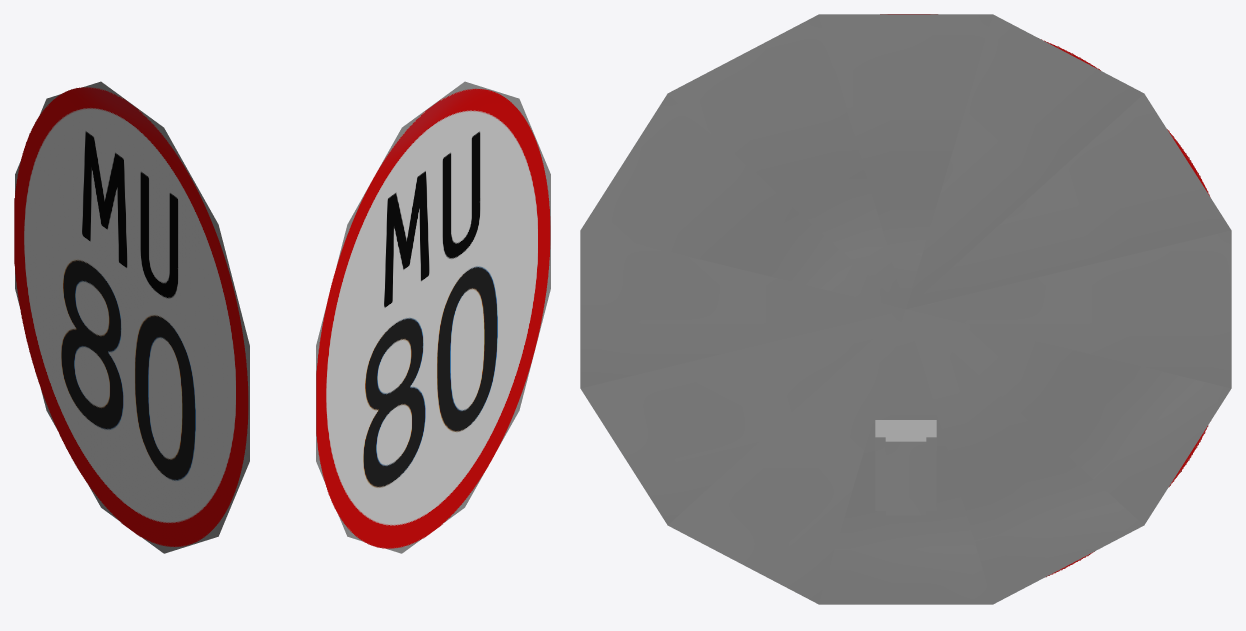
Rendered from speed_80_mu_large.png.obj.
3 views of the same model, side by side, from view 1: azimuth 30°, elevation 25°; view 2: azimuth 150°, elevation 25°; view 3: azimuth 270°, elevation 25° (orthographic). The views are drawn at different scales.
Parts seen in each view (by area): view 1: cube, circle; view 2: cube, circle; view 3: circle, cube.
Boxes of the visible parts, left/top/right/bottom form: cube: left=14, top=87, right=248, bottom=547; circle: left=15, top=81, right=249, bottom=553; cube: left=316, top=88, right=550, bottom=548; circle: left=316, top=81, right=550, bottom=553; circle: left=580, top=14, right=1231, bottom=604; cube: left=875, top=14, right=1209, bottom=577.
Bounding box in the file's own units: 0.0797 × 1 × 1.
Materials: 2 (2 with a texture image).
